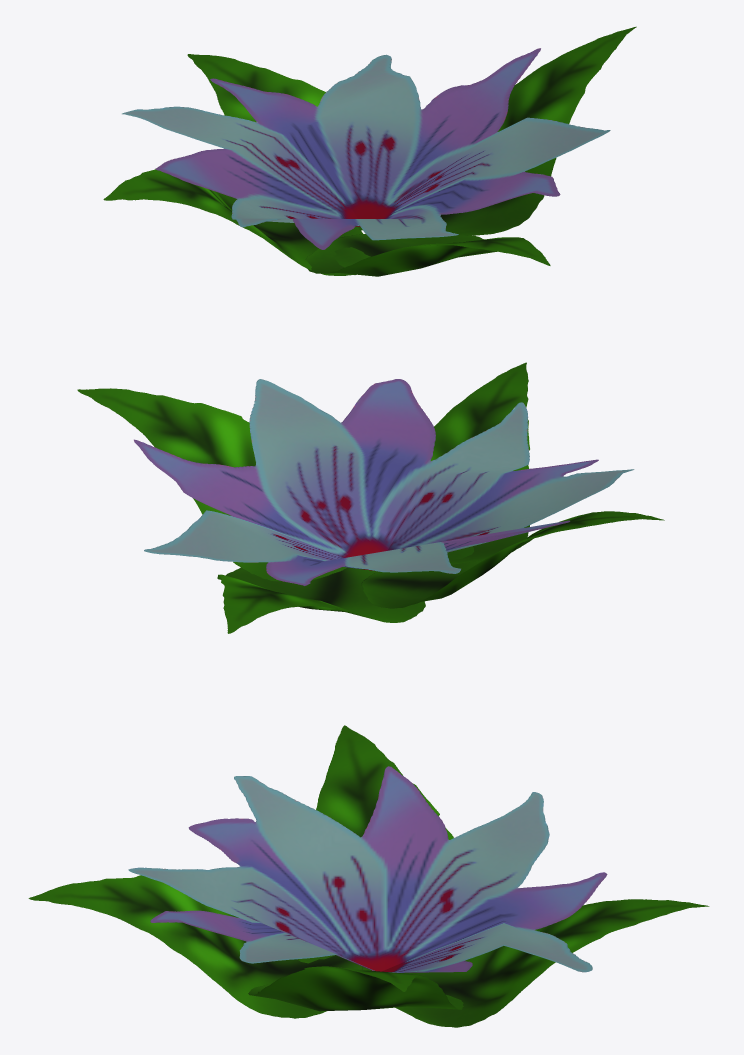
File: FlorPequeña2.fbx
3 renders of one model, top to bottom at view 1: azimuth 30°, elevation 25°; view 2: azimuth 150°, elevation 25°; view 3: azimuth 270°, elevation 25°, orthographic. The views are drawn at different scales.
Parts seen in each view (by area): view 1: Flor2; view 2: Flor2; view 3: Flor2.
Boxes of the visible parts, box(x1,y1,x2,y2) form: Flor2: box(103, 26, 636, 276); Flor2: box(77, 362, 664, 633); Flor2: box(28, 725, 709, 1027).
Bounding box in the file's own units: 42 × 9.57 × 42.23.
